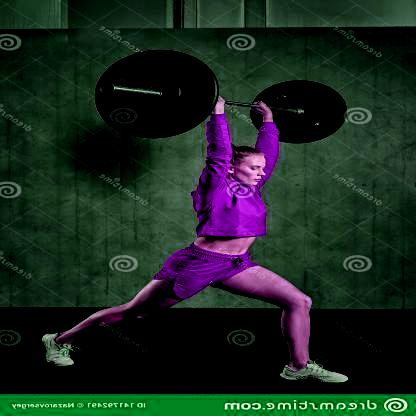Barbell: (92, 80, 119, 98)
